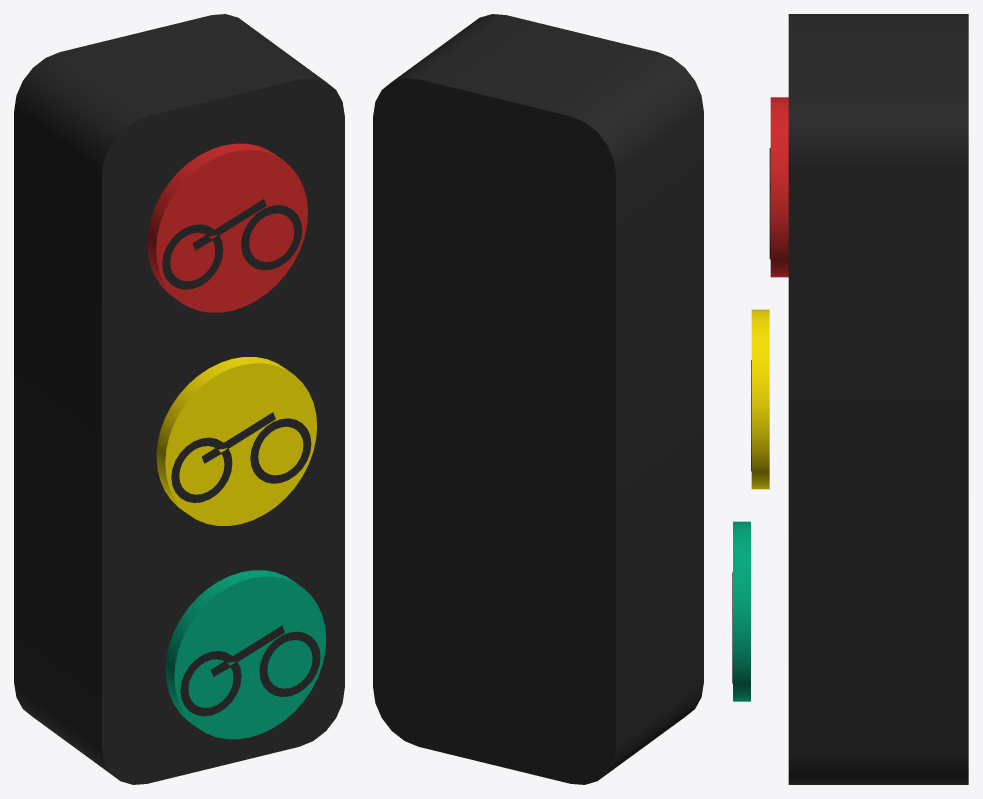
3 renders of one model, left to right at view 1: azimuth 30°, elevation 25°; view 2: azimuth 150°, elevation 25°; view 3: azimuth 270°, elevation 25°, orthographic. The views are drawn at different scales.
Visible parts, largest first — view 1: R15c_r00, R15c_d250, R15c_d276, R15c_d302, R15c_s275, R15c_s327, R15c_s301; view 2: R15c_r00; view 3: R15c_r00, R15c_d250, R15c_d276, R15c_d302.
Part boxes in pixels (x1,y1,x2,y2): R15c_r00: (14,14,344,784); R15c_d250: (147,143,307,312); R15c_d276: (156,357,316,525); R15c_d302: (165,570,326,739); R15c_s275: (162,199,302,289); R15c_s327: (180,625,320,716); R15c_s301: (171,412,311,502); R15c_r00: (373,14,703,784); R15c_r00: (788,14,968,784); R15c_d250: (770,97,788,277); R15c_d276: (751,309,769,489); R15c_d302: (733,521,750,701).
Size of the model in its own units: 0.16 by 0.42 by 0.1312.
